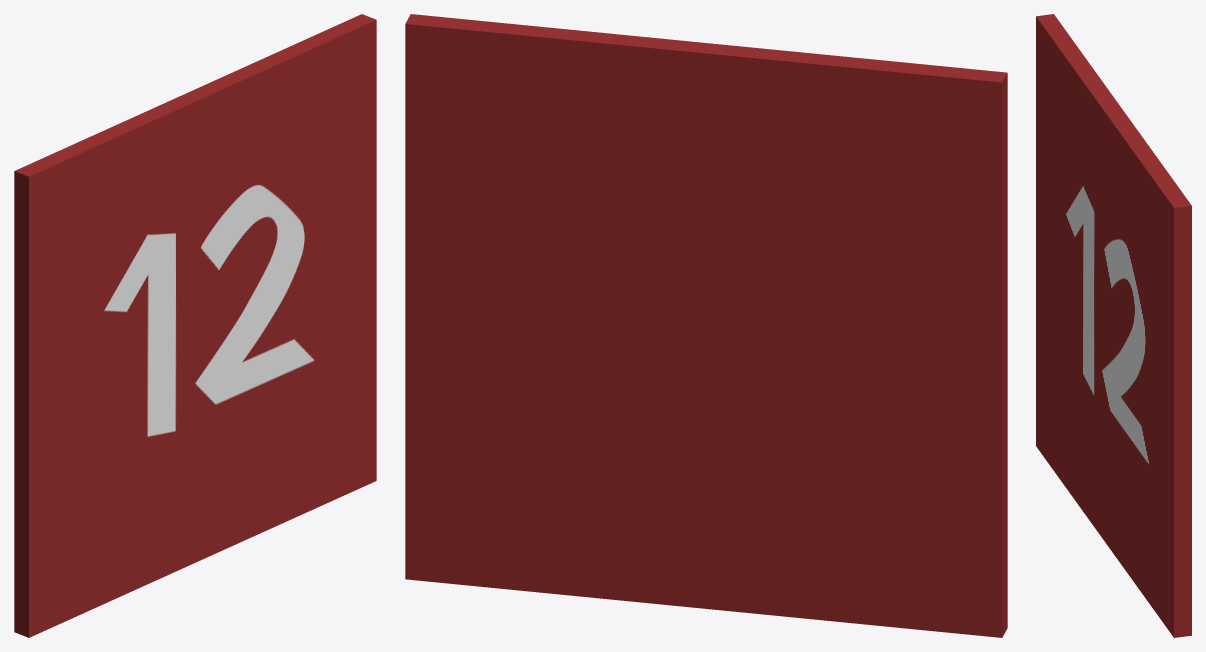
File: flap11.glb
3 renders of one model, left to right at view 1: azimuth 30°, elevation 25°; view 2: azimuth 150°, elevation 25°; view 3: azimuth 270°, elevation 25°, orthographic. The views are drawn at different scales.
Visible parts, largest first — view 1: flap.011; view 2: flap.011; view 3: flap.011.
Part boxes in pixels (x1,y1,x2,y2): flap.011: [14, 14, 376, 637]; flap.011: [405, 14, 1007, 637]; flap.011: [1036, 14, 1191, 637].
Size of the model in its own units: 0.242 by 0.25 by 0.0821.
1 material, 1 textured.
